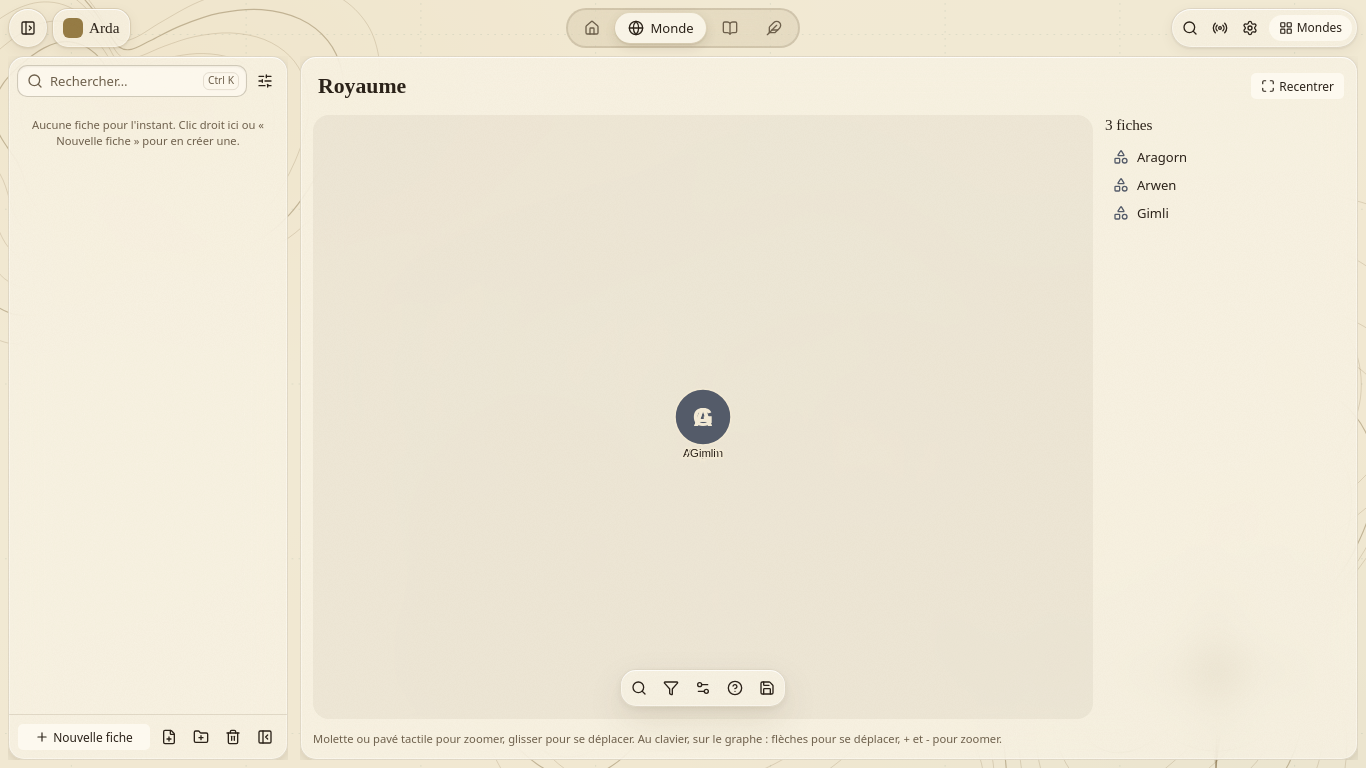
Scenario: the settings: hiding the cards without links, a force slider, back to the defaults
The image size is (1366, 768).
Click the button named "Réglages du graphe" at [703, 688], box [689,674,717,702]
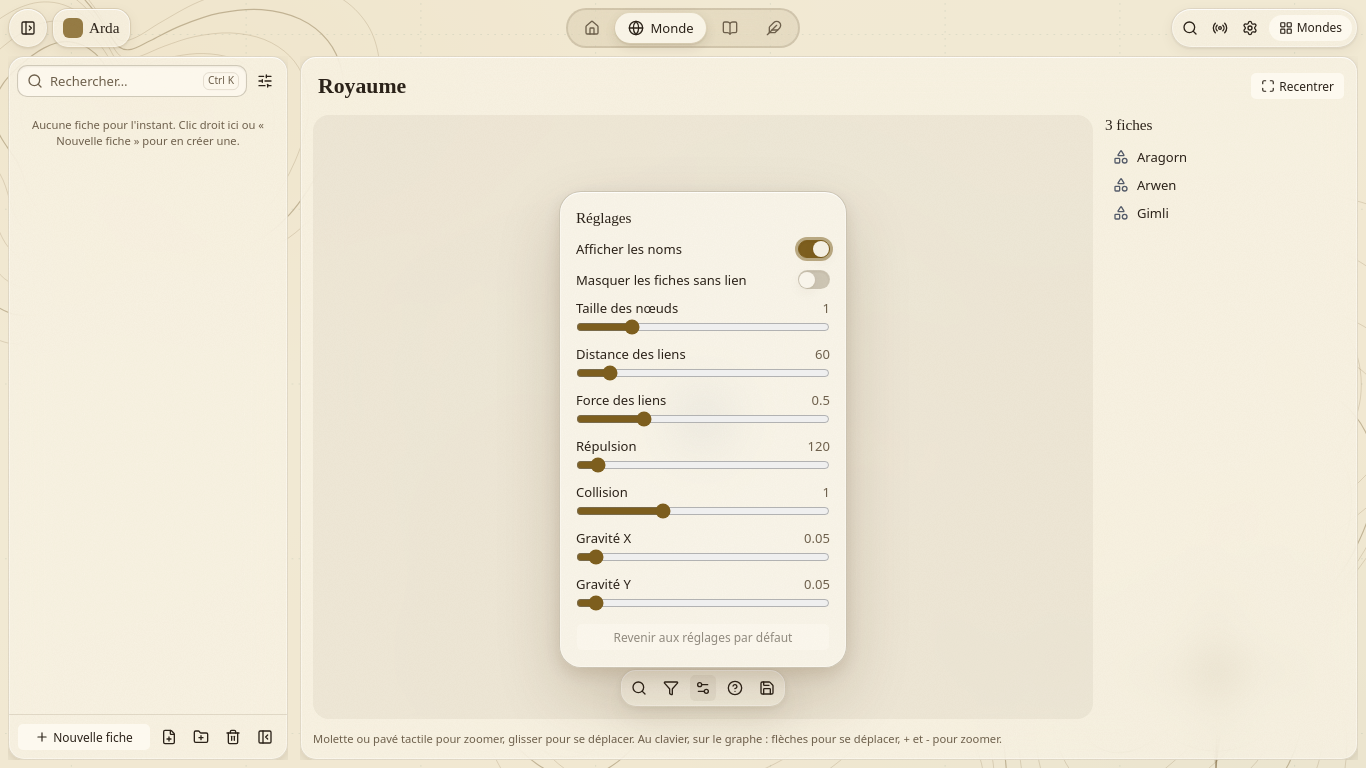
Expected: the list named "3 fiches" is shown, [1113,148,1187,222]
Click the switch named "Masquer les fiches sans lien" next to "Masquer les fiches sans lien" at [814, 280], box [798,270,830,289]
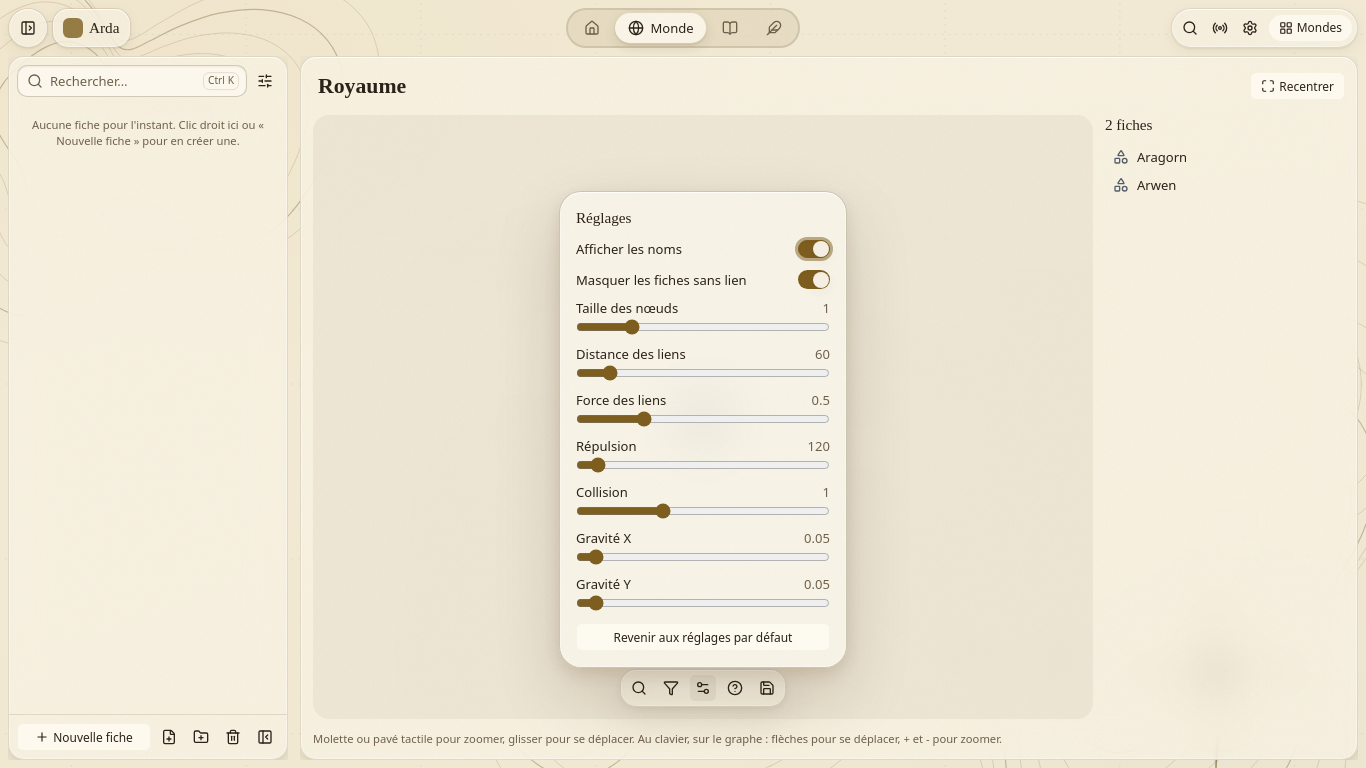
Expected: the list named "2 fiches" is shown, [1113,148,1187,194]
Set the slider labelled "Répulsion 120" to "900" at [691, 465], box [576,457,830,473]
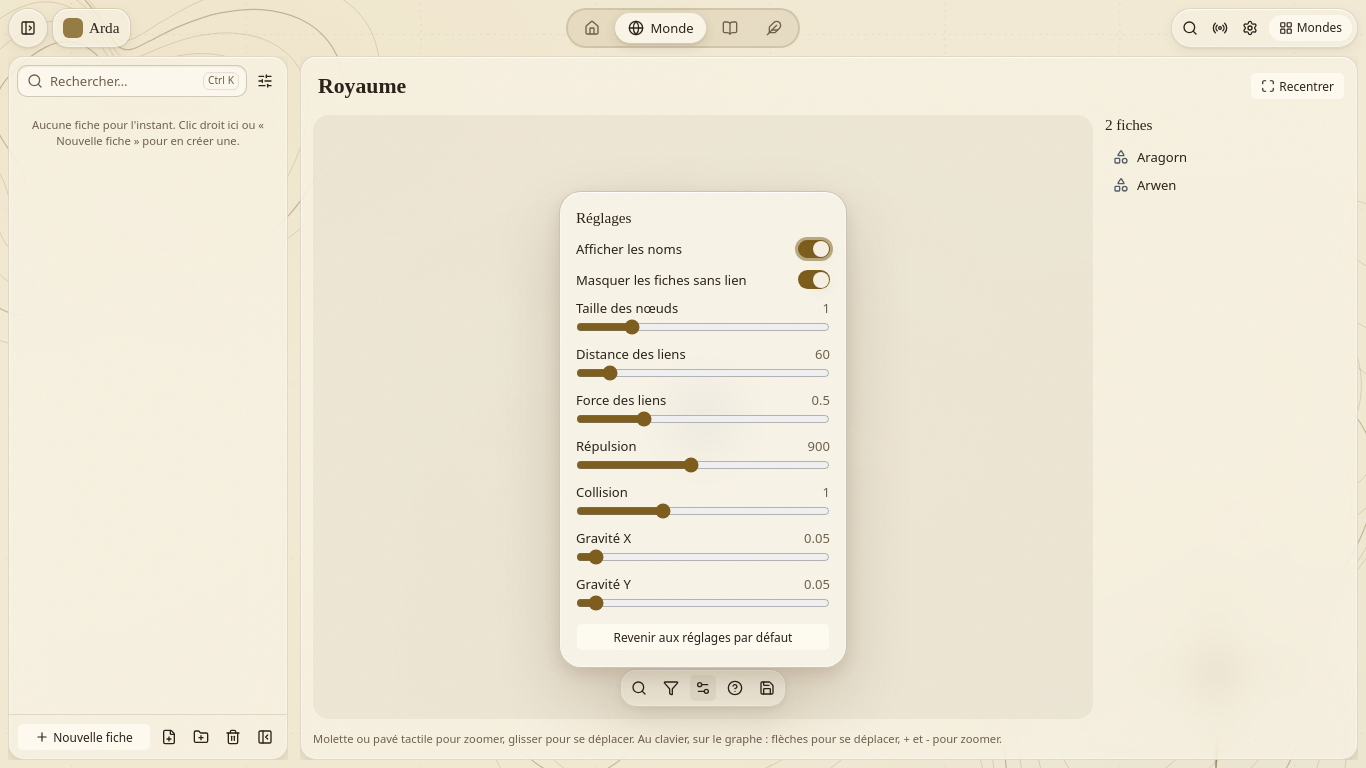
Result: the text "900" is shown at [808,439,830,453]
Click the button "Revenir aux réglages par défaut" at [703, 637], box [576,623,830,651]
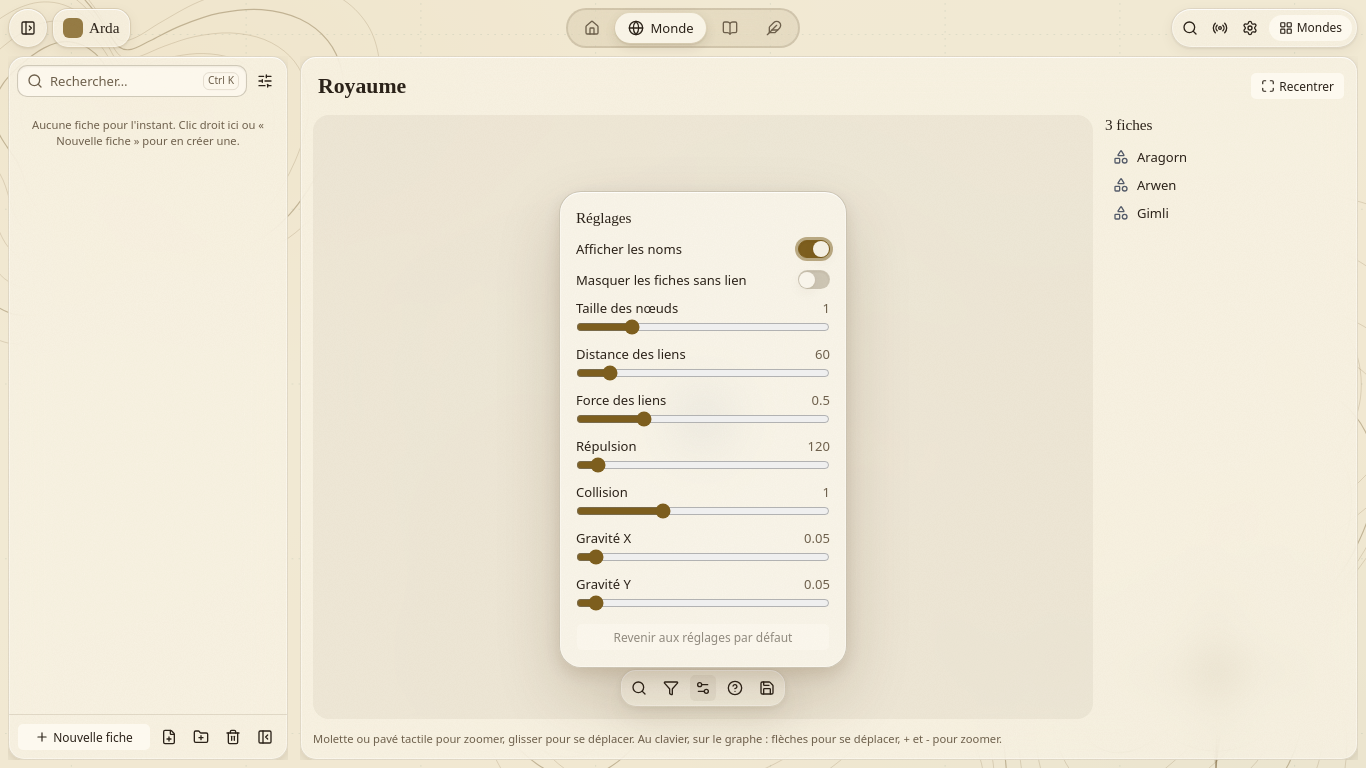
Expected: the list named "3 fiches" is shown, [1113,148,1187,222]
Result: the text "120" is shown at [808,439,830,453]
